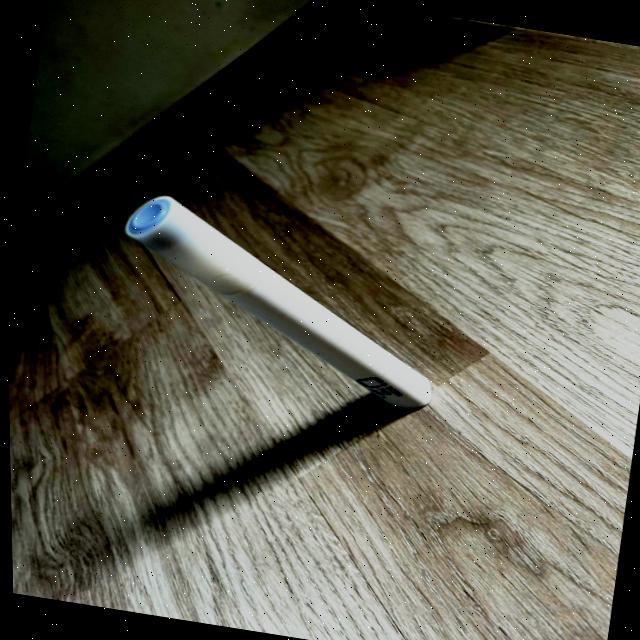HighLight Pen: (125, 196, 429, 414)
